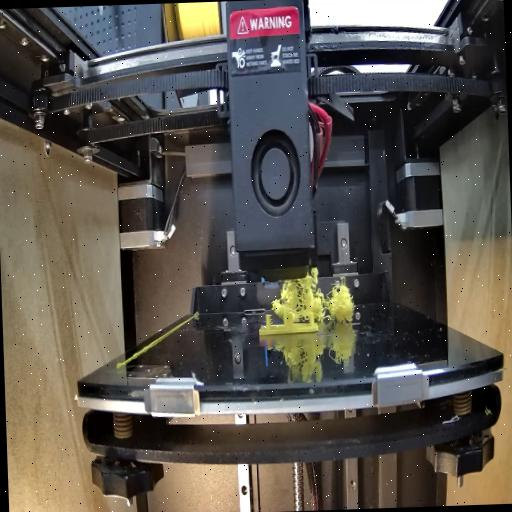spaghetti: (272, 265, 356, 323)
